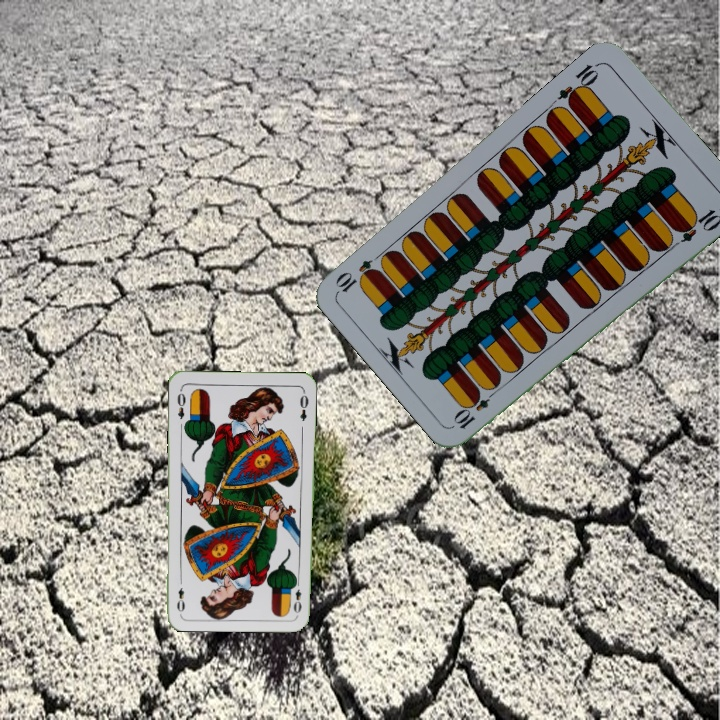E10: (554, 58, 603, 109), (450, 384, 500, 432)
EO: (289, 576, 304, 616), (173, 386, 188, 422)
